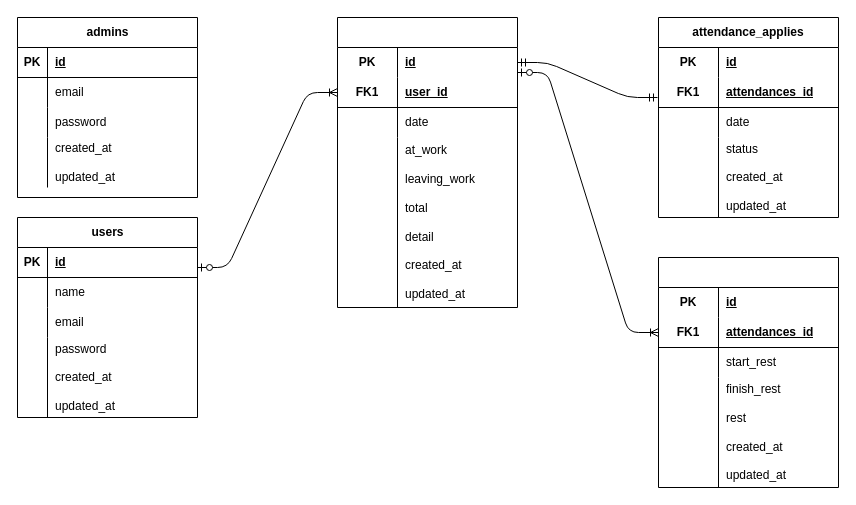
The diagram is 856 pixels wide and 505 high, and some of its shapes have lost their labels. The box of each missing label's shape, as (x1, y1, x2, y2) in pixels:
attendances: (336, 16, 518, 308)
rests: (658, 256, 838, 488)
